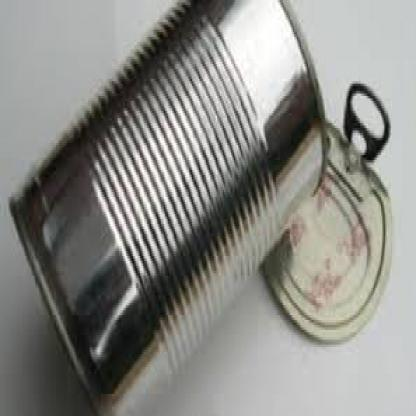Compsot: (8, 0, 325, 414), (256, 81, 394, 347), (342, 81, 388, 158)
